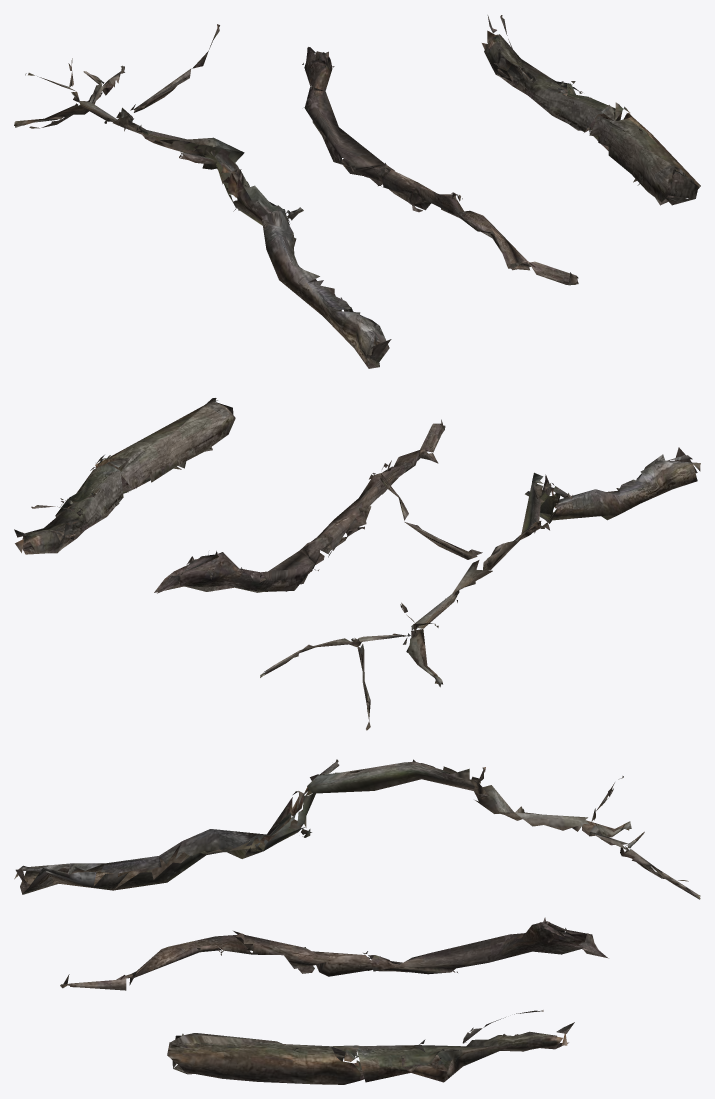
File: branches_dry.glb
3 renders of one model, top to bottom at view 1: azimuth 30°, elevation 25°; view 2: azimuth 150°, elevation 25°; view 3: azimuth 270°, elevation 25°, orthographic. The views are drawn at different scales.
Visible parts, largest first — view 1: branches_dry; view 2: branches_dry; view 3: branches_dry.
Boxes of the visible parts, x1,y1,x2,y2 form: branches_dry: (14, 15, 700, 368); branches_dry: (14, 398, 700, 730); branches_dry: (14, 759, 700, 1084).
Bounding box in the file's own units: 1.1 × 0.3492 × 1.35.
Materials: 1 (1 with a texture image).
